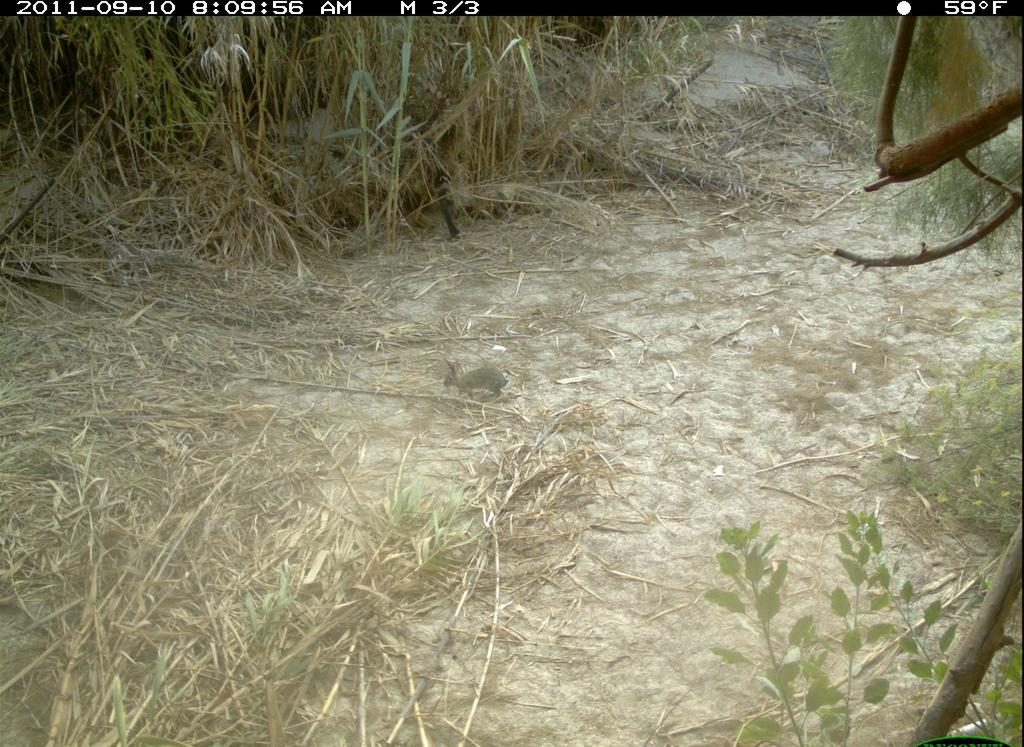rabbit: (431, 358, 524, 406)
